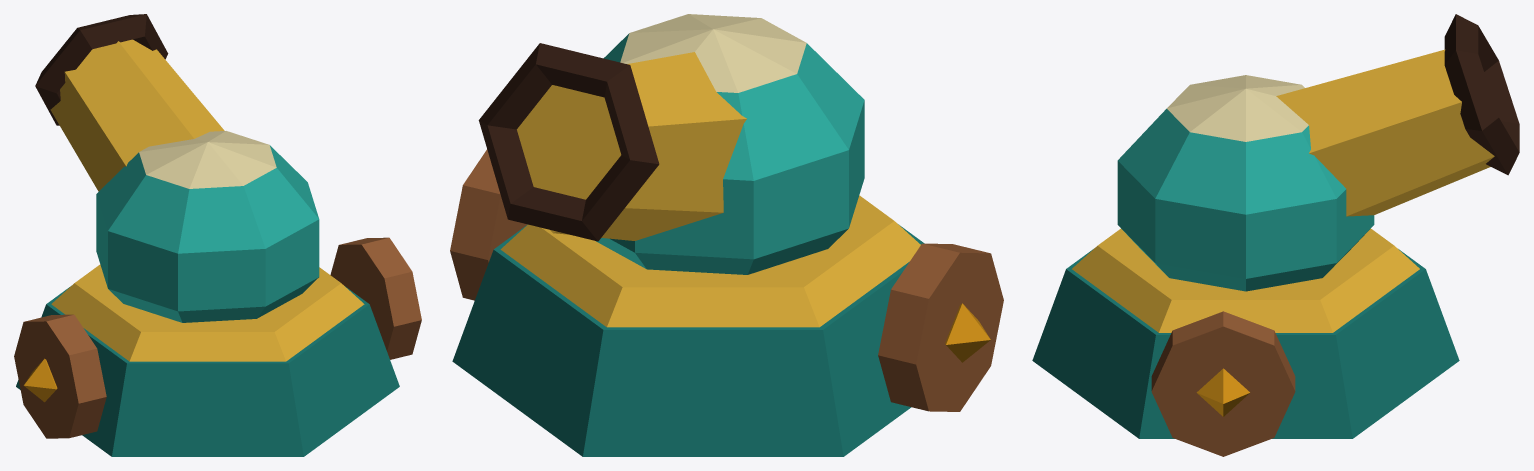
The model's file is prop-cannon.glb.
3 renders of one model, left to right at view 1: azimuth 30°, elevation 25°; view 2: azimuth 150°, elevation 25°; view 3: azimuth 270°, elevation 25°, orthographic. The views are drawn at different scales.
Size of the model in its own units: 2.22 by 1.63 by 2.17.
